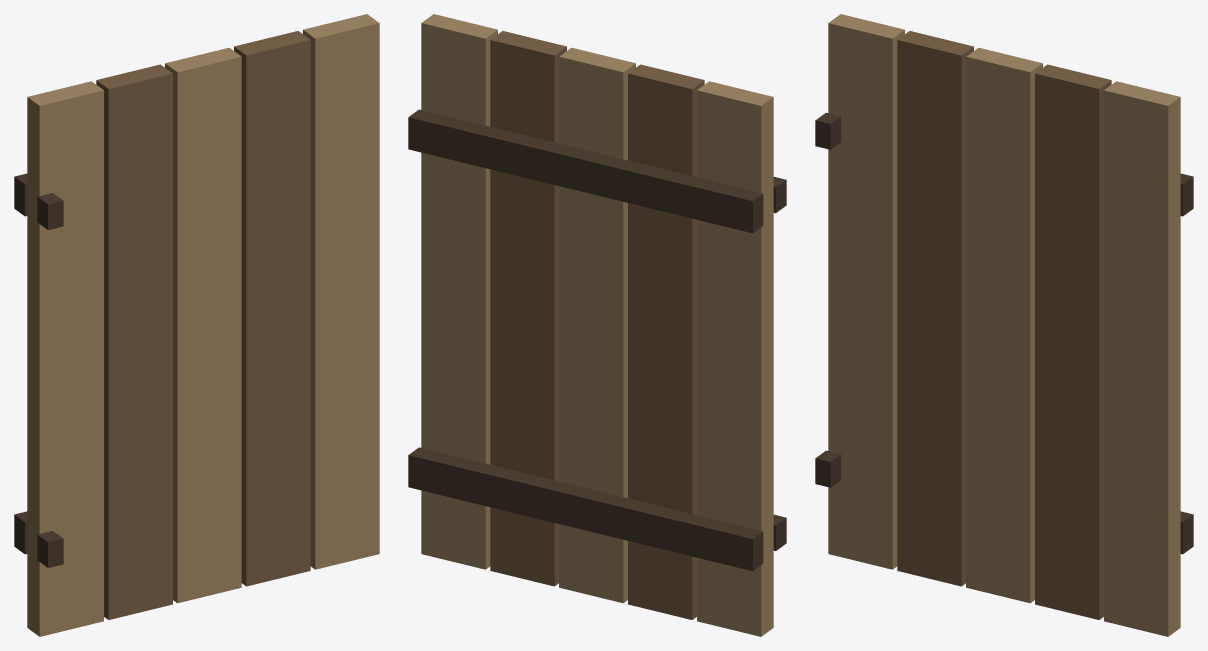
File: TW_WOOD_GATE_LEAF_A_LOD0.glb
The picture shows the model from 3 angles, left to right: view 1: azimuth 30°, elevation 25°; view 2: azimuth 150°, elevation 25°; view 3: azimuth 330°, elevation 25°; orthographic projection.
Parts seen in each view (by area): view 1: TW_WOOD_GATE_LEAF_A_LOD0; view 2: TW_WOOD_GATE_LEAF_A_LOD0; view 3: TW_WOOD_GATE_LEAF_A_LOD0.
Boxes of the visible parts, x1,y1,x2,y2 form: TW_WOOD_GATE_LEAF_A_LOD0: (14, 14, 379, 636); TW_WOOD_GATE_LEAF_A_LOD0: (408, 14, 786, 636); TW_WOOD_GATE_LEAF_A_LOD0: (815, 14, 1193, 636).
Bounding box in the file's own units: 1.12 × 1.65 × 0.19.
1 material, 1 textured.
